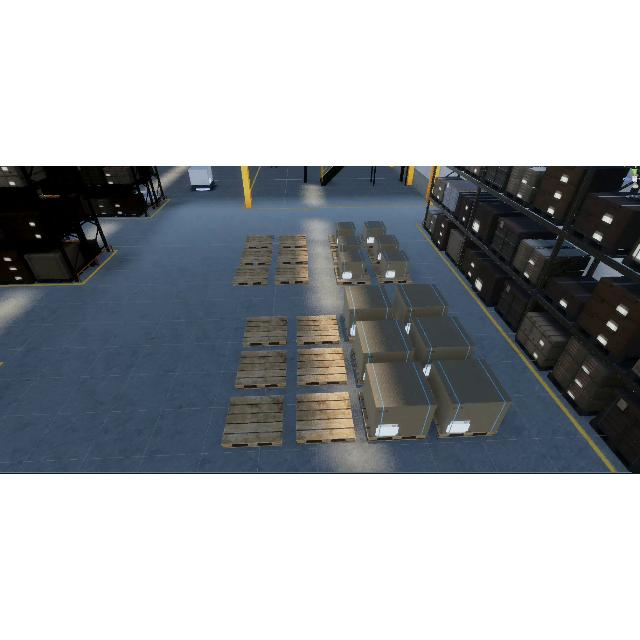wooden_pallet: (359, 392, 426, 442), (296, 392, 356, 445), (297, 348, 348, 387), (432, 413, 496, 439), (296, 314, 340, 345), (372, 265, 412, 284), (334, 265, 371, 285), (274, 265, 309, 285), (278, 248, 308, 265)
